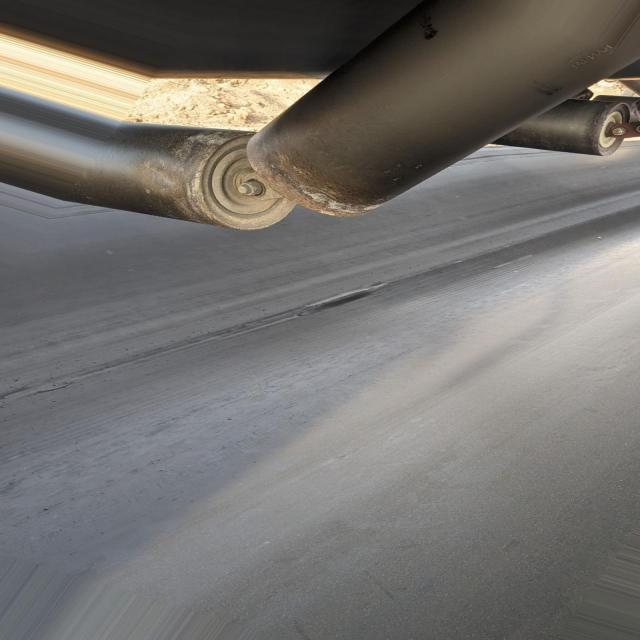Roller: (249, 0, 611, 223), (76, 122, 291, 230), (496, 107, 624, 157)
impact damage: (297, 288, 373, 316)
